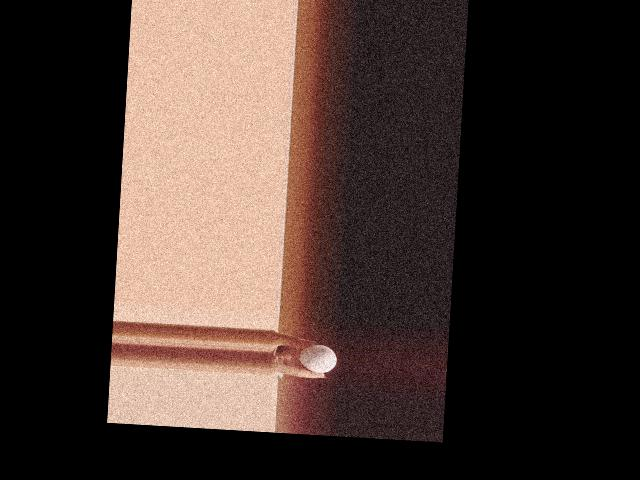egg: (298, 343, 337, 373)
